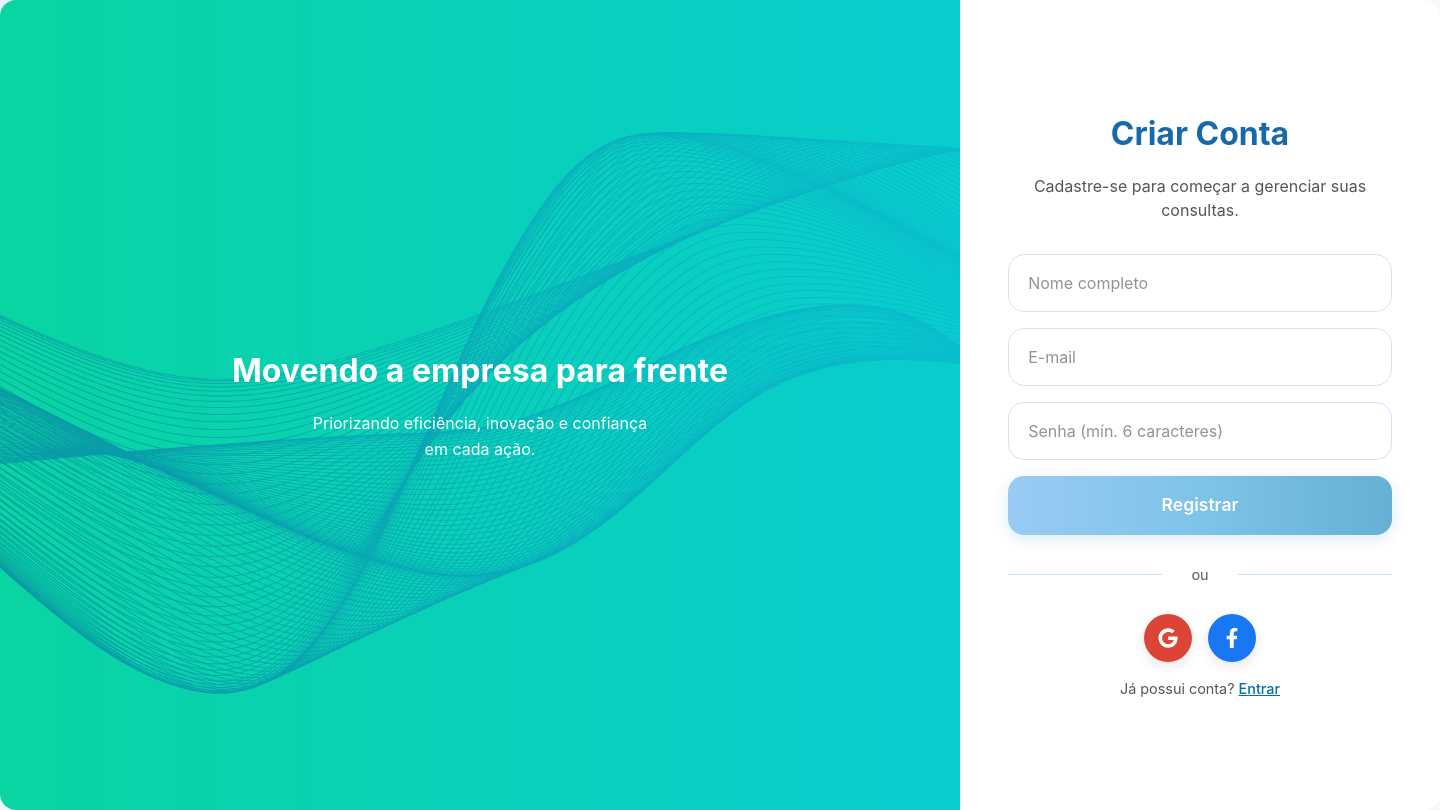
Test: RegisterPage › shows a safe error and does not route when registration is rejected
Type "Pessoa Teste" into the field labelled "Nome completo" at (1200, 283), box [1008,254,1392,312]
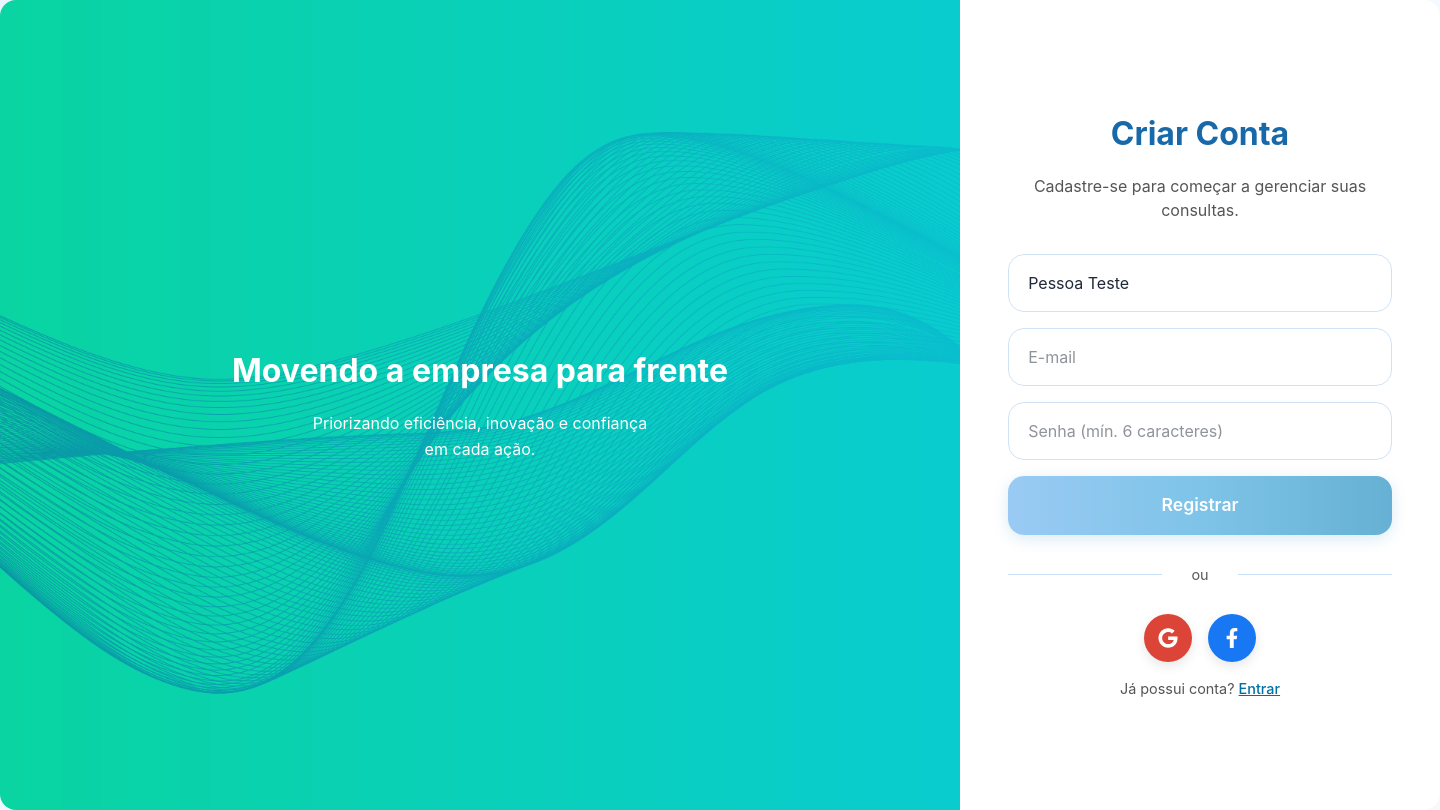
Type "invalid@example.com" into the field labelled "E-mail" at (1200, 357), box [1008,328,1392,386]
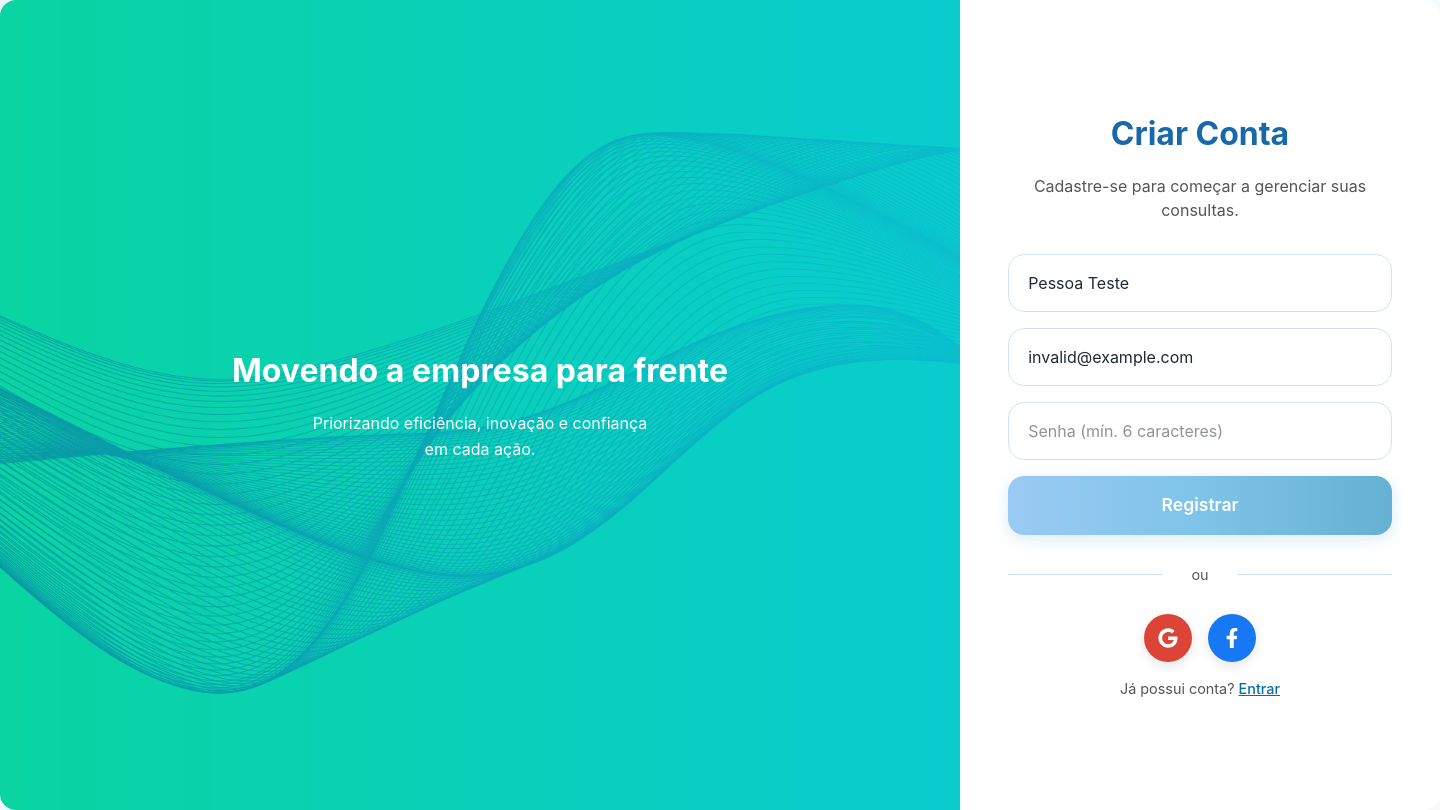
Type "SenhaTeste123!" into the password field labelled "Senha" at (1200, 431), box [1008,402,1392,460]
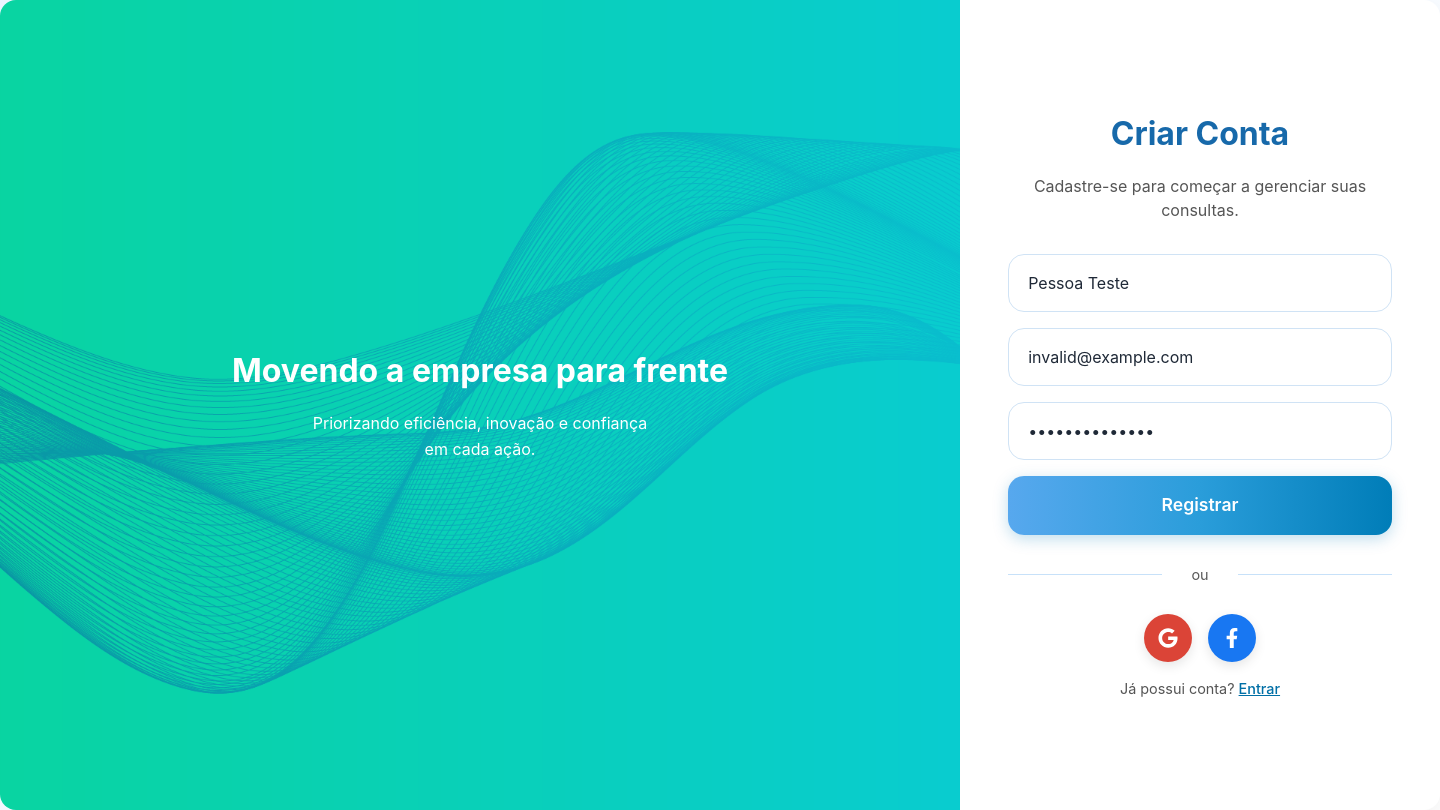
Click the button "Registrar" at (1200, 506), box [1008,476,1392,535]
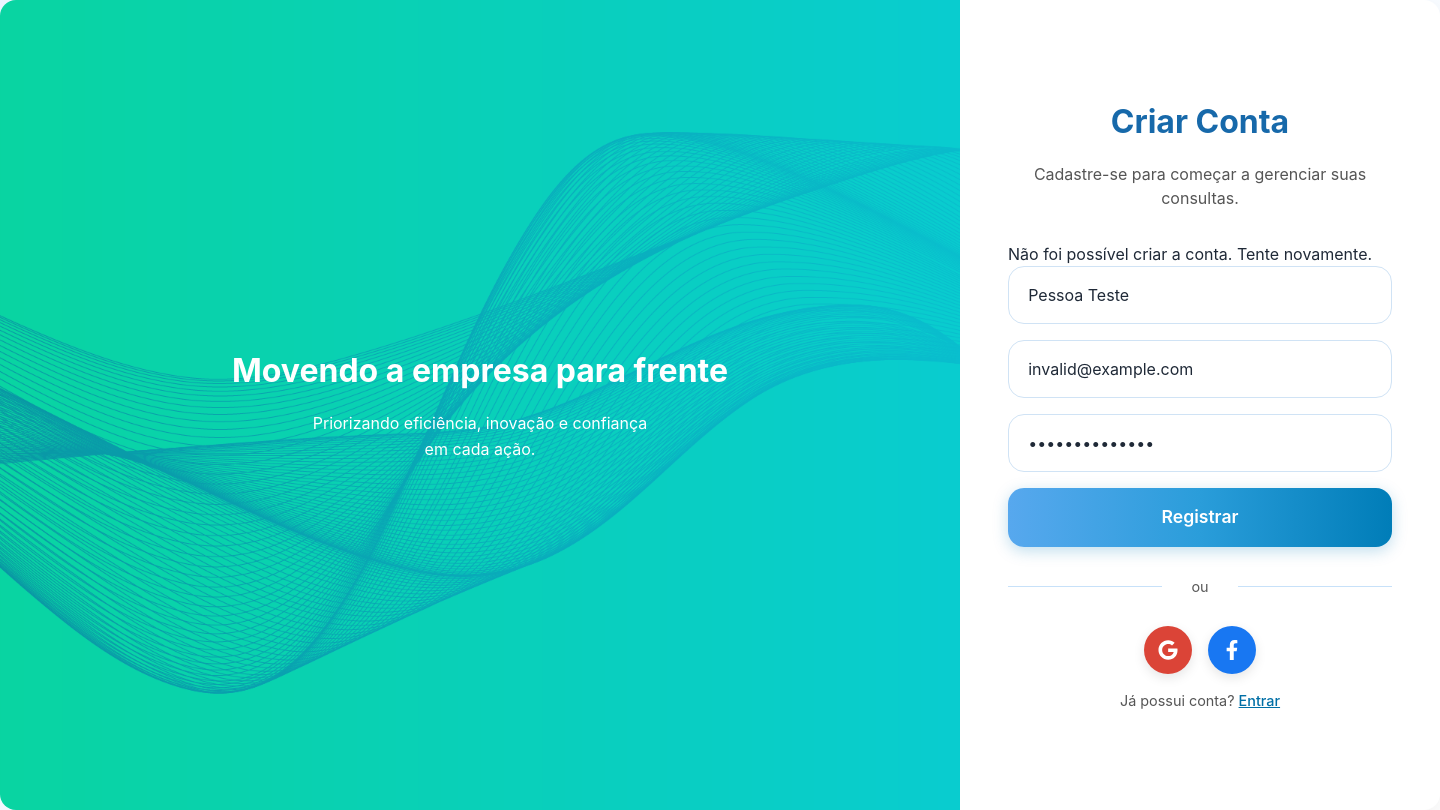
Expected: the message "Não foi possível criar a conta. Tente novamente." is shown, [1008,242,1392,266]
